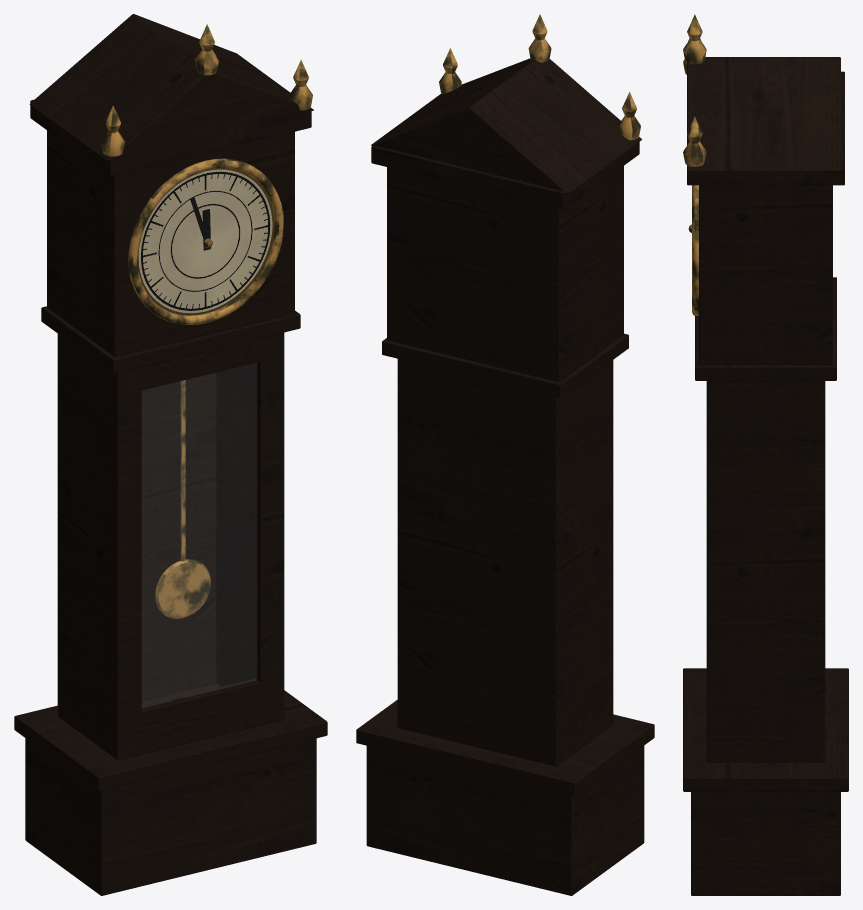
File: Clock_Grandfather.gltf
3 views of the same model, side by side, from view 1: azimuth 30°, elevation 25°; view 2: azimuth 150°, elevation 25°; view 3: azimuth 270°, elevation 25° (orthographic). The views are drawn at different scales.
Visible parts, largest first — view 1: Clock_Grandfather_Case, Clock_Grandfather_Dial, Clock_Grandfather_Brass, Clock_Grandfather_Pendulum; view 2: Clock_Grandfather_Case, Clock_Grandfather_Brass; view 3: Clock_Grandfather_Case, Clock_Grandfather_Brass.
Boxes of the visible parts, x1,y1,x2,y2 form: Clock_Grandfather_Case: [14, 14, 327, 895]; Clock_Grandfather_Dial: [138, 168, 274, 315]; Clock_Grandfather_Brass: [101, 24, 312, 324]; Clock_Grandfather_Pendulum: [155, 380, 210, 618]; Clock_Grandfather_Case: [356, 58, 654, 895]; Clock_Grandfather_Brass: [439, 14, 640, 140]; Clock_Grandfather_Case: [683, 57, 848, 895]; Clock_Grandfather_Brass: [683, 14, 706, 316].
Size of what is drawn, in the model's own units: 0.66 by 2.32 by 0.42.
Materials: 5 (4 with a texture image).
